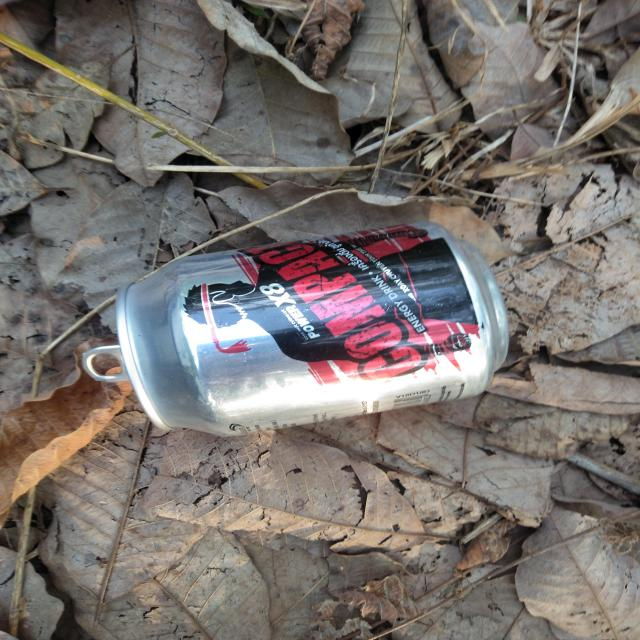Drink can: (82, 220, 509, 437)
Pop tab: (81, 344, 131, 383)
